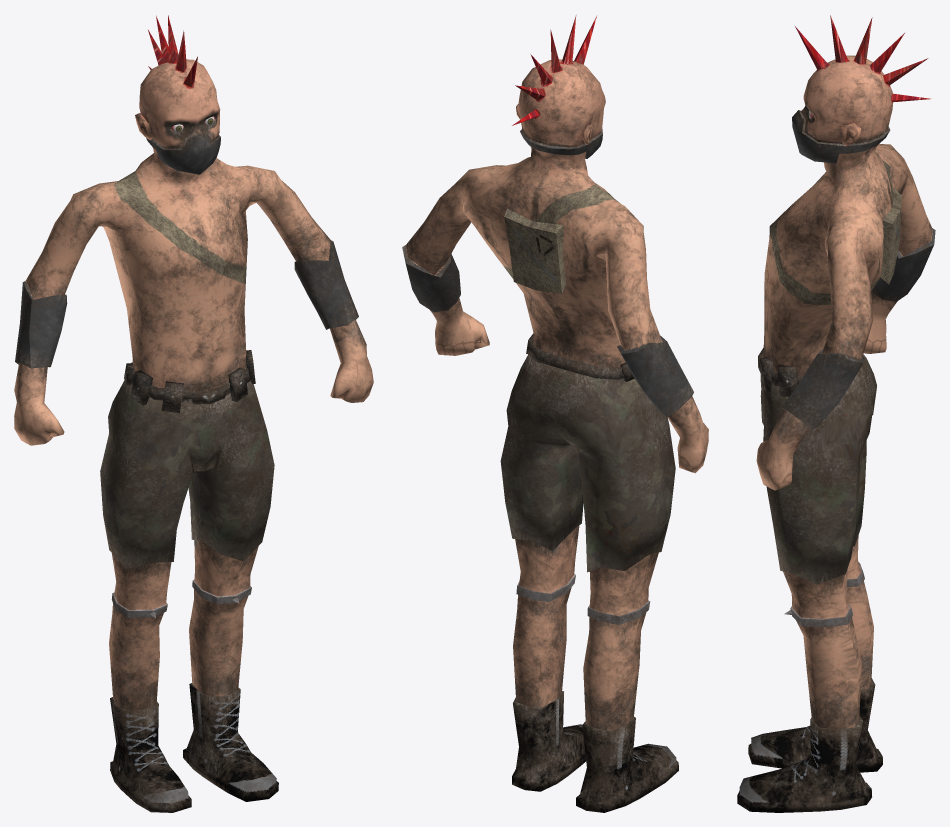
File: Anim_ataque_d1_npc2.0012.obj
3 renders of one model, left to right at view 1: azimuth 30°, elevation 25°; view 2: azimuth 150°, elevation 25°; view 3: azimuth 270°, elevation 25°, orthographic. The views are drawn at different scales.
Visible parts, largest first — view 1: polySurface1; view 2: polySurface1; view 3: polySurface1.
Part boxes in pixels (x1,y1,x2,y2): polySurface1: (14,15,373,812); polySurface1: (402,15,708,812); polySurface1: (737,15,935,812).
Size of the model in its own units: 4.37 by 10.14 by 2.36.
Materials: 2 (2 with a texture image).
